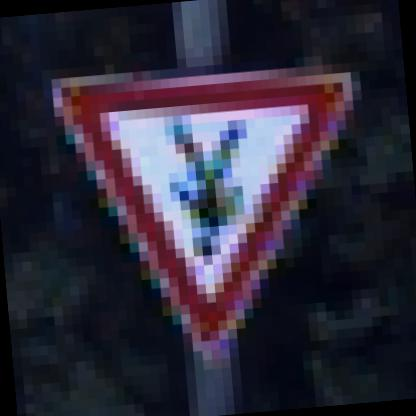crosswalk: (36, 18, 391, 377)
